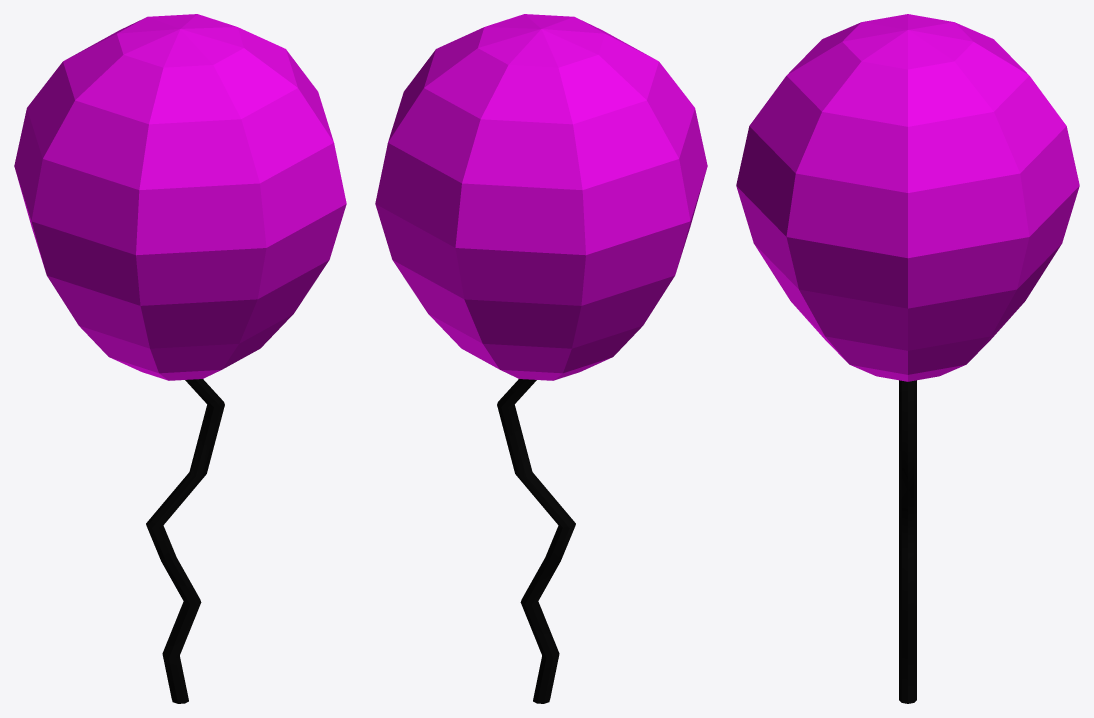
File: Purple ballon.fbx
The picture shows the model from 3 angles, left to right: view 1: azimuth 30°, elevation 25°; view 2: azimuth 150°, elevation 25°; view 3: azimuth 270°, elevation 25°; orthographic projection.
Parts seen in each view (by area): view 1: pSphere1, pCylinder1; view 2: pSphere1, pCylinder1; view 3: pSphere1, pCylinder1.
Part boxes in pixels (box(x1,y1,x2,y2)): pSphere1: box(14, 14, 346, 380); pCylinder1: box(146, 379, 224, 703); pSphere1: box(375, 14, 707, 380); pCylinder1: box(497, 379, 575, 703); pSphere1: box(736, 14, 1079, 381); pCylinder1: box(899, 380, 916, 703).
Size of the model in its own units: 2 by 4.3 by 2.
